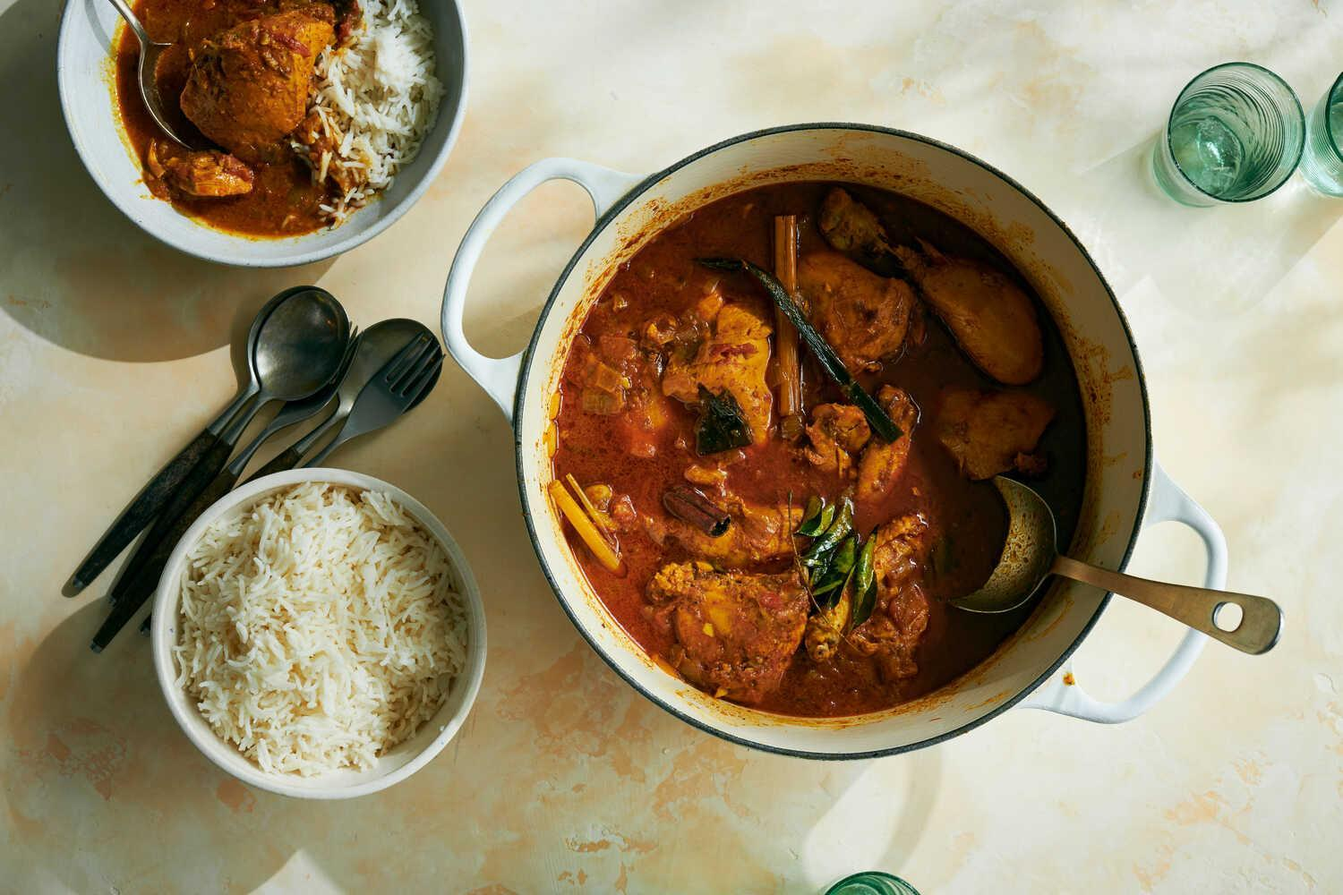chicken: (539, 147, 1112, 713), (125, 3, 338, 250)
rice: (175, 484, 490, 778), (351, 0, 479, 214)
